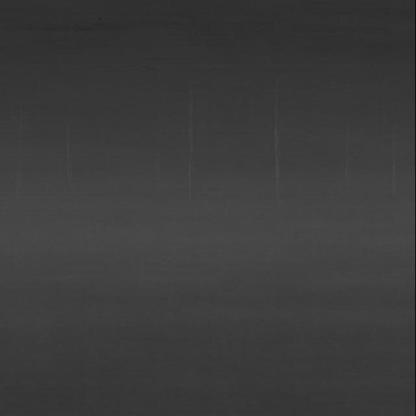waist_folding: (44, 69, 380, 201)
